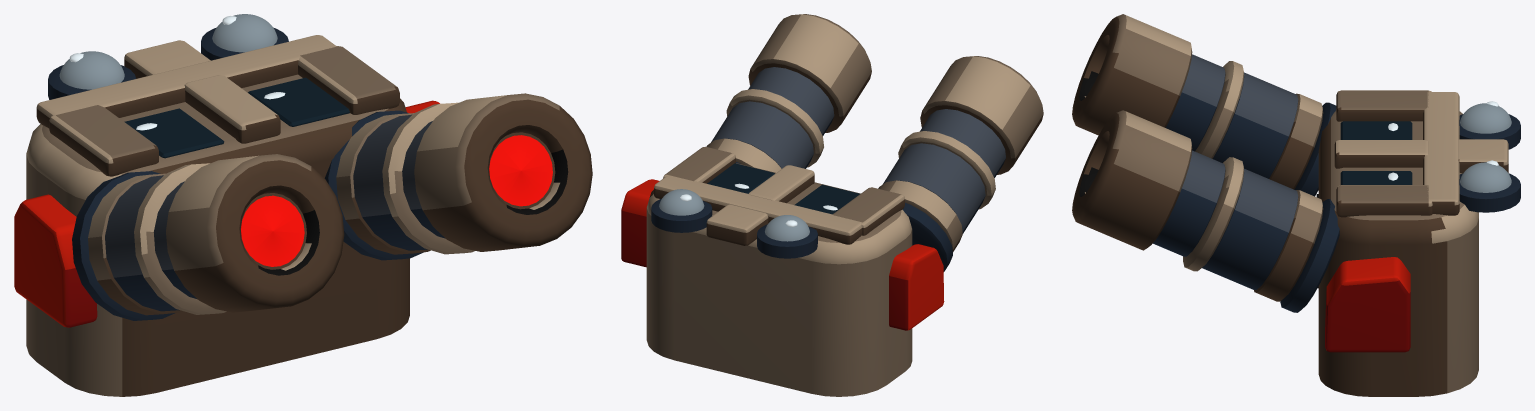
File: tan_launcher_273.glb
3 renders of one model, left to right at view 1: azimuth 30°, elevation 25°; view 2: azimuth 150°, elevation 25°; view 3: azimuth 270°, elevation 25°, orthographic. The views are drawn at different scales.
Parts seen in each view (by area): view 1: tan_launcher_273; view 2: tan_launcher_273; view 3: tan_launcher_273.
Boxes of the visible parts, left/top/right/bottom form: tan_launcher_273: left=14, top=14, right=592, bottom=396; tan_launcher_273: left=621, top=14, right=1043, bottom=396; tan_launcher_273: left=1072, top=14, right=1520, bottom=396.
Size of the model in its own units: 21.9 by 16.53 by 25.64.
